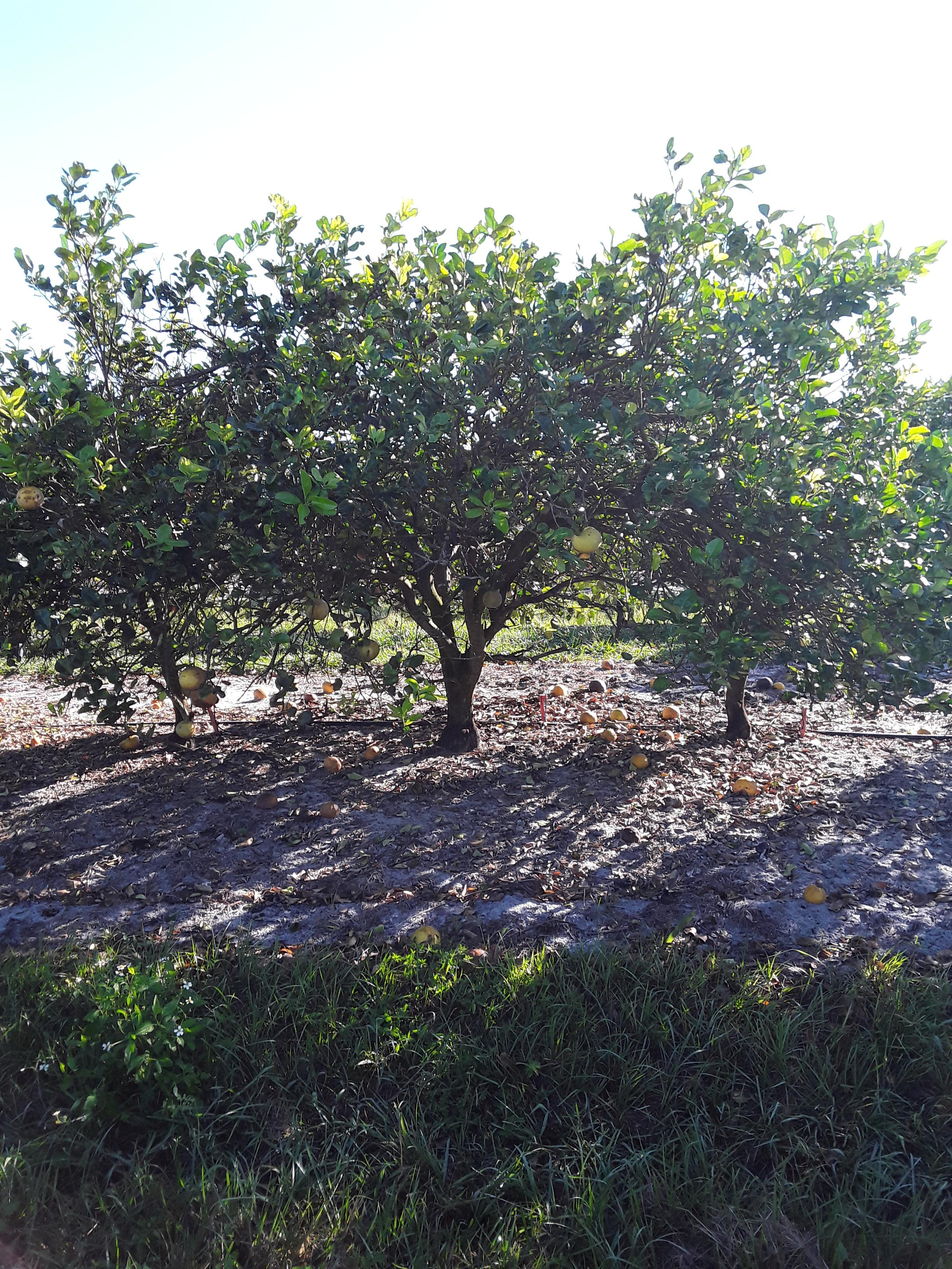fruit_on_ground: (571, 523, 607, 555), (338, 636, 373, 666), (16, 486, 48, 513), (178, 662, 203, 692), (355, 636, 383, 661), (303, 597, 332, 621), (329, 626, 355, 648), (172, 720, 199, 738), (482, 590, 507, 609), (355, 546, 378, 562)
fruit_on_tree: (408, 925, 444, 958), (465, 947, 505, 975), (732, 771, 761, 804), (803, 880, 828, 911), (116, 733, 143, 753), (254, 792, 282, 811), (609, 705, 629, 727), (320, 800, 342, 820), (629, 749, 648, 771), (620, 825, 642, 844), (552, 682, 572, 702), (323, 754, 342, 775), (662, 703, 682, 722), (589, 678, 611, 694), (579, 709, 598, 727), (363, 745, 383, 762), (755, 675, 774, 690), (282, 699, 297, 716), (600, 728, 617, 743), (658, 729, 675, 743), (647, 676, 665, 689), (28, 735, 45, 748), (150, 697, 168, 708), (602, 658, 617, 671), (304, 693, 321, 704), (254, 687, 266, 702), (679, 675, 693, 687), (321, 681, 335, 693), (774, 683, 790, 693), (152, 701, 161, 711)
